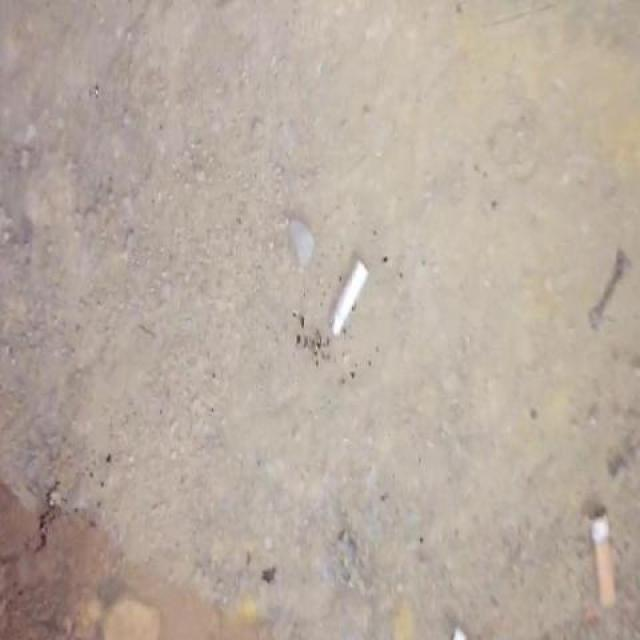non-organic waste: (326, 254, 374, 342), (583, 506, 622, 614)
